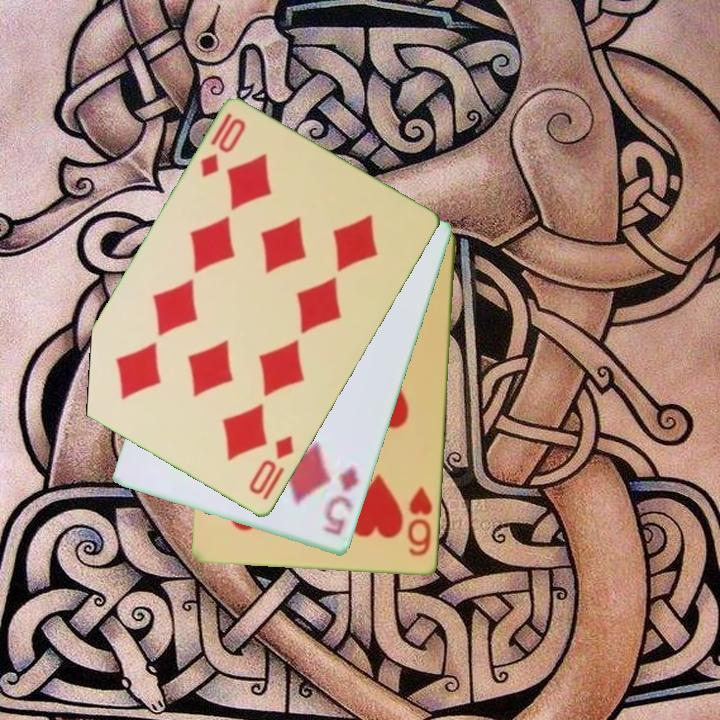10d: (245, 432, 297, 499), (197, 115, 249, 181)
5d: (318, 462, 362, 539)
6h: (405, 484, 436, 560)
